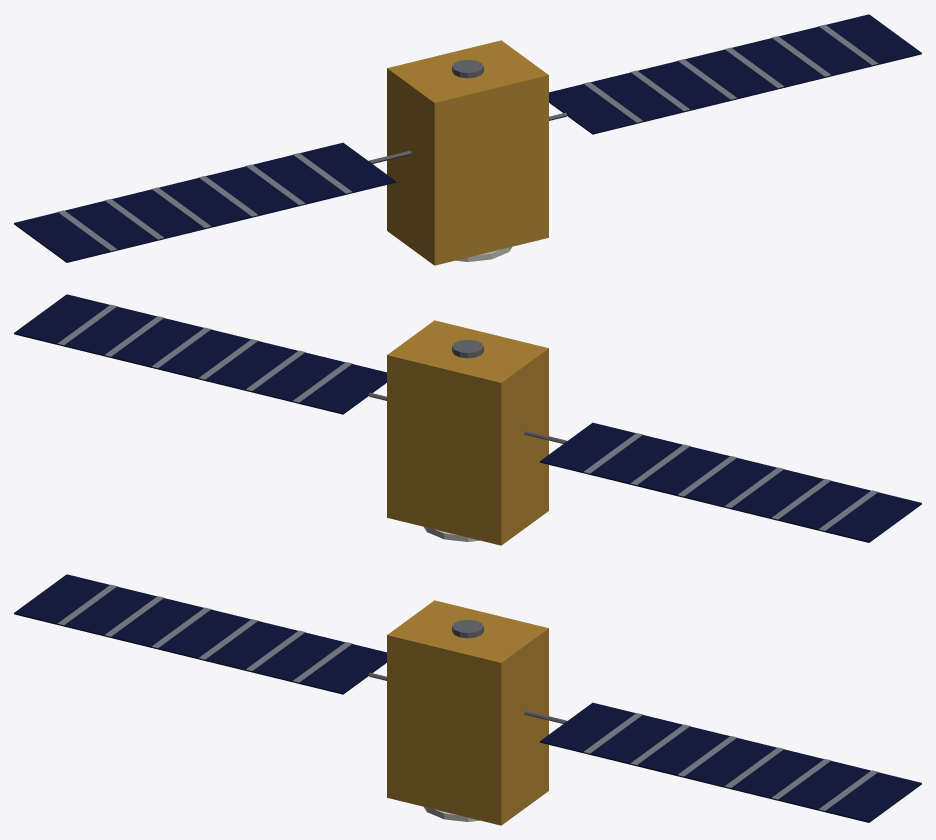
Rendered from gnss.glb.
The picture shows the model from 3 angles, top to bottom: view 1: azimuth 30°, elevation 25°; view 2: azimuth 150°, elevation 25°; view 3: azimuth 330°, elevation 25°; orthographic projection.
Visible parts, largest first — view 1: gnss; view 2: gnss; view 3: gnss.
Part boxes in pixels (left/top/right/bottom): gnss: left=14, top=14, right=921, bottom=265; gnss: left=14, top=294, right=921, bottom=545; gnss: left=14, top=574, right=921, bottom=825.
Bounding box in the file's own units: 18.7 × 3.67 × 2.02.
